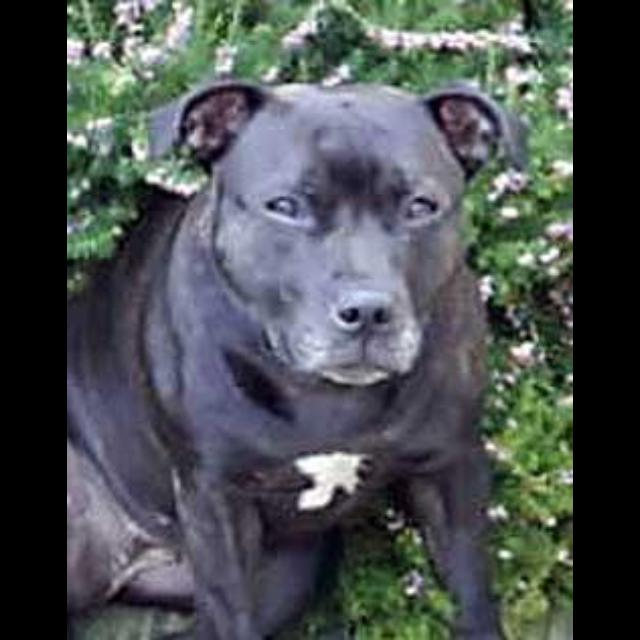staffford: (69, 78, 532, 639)
